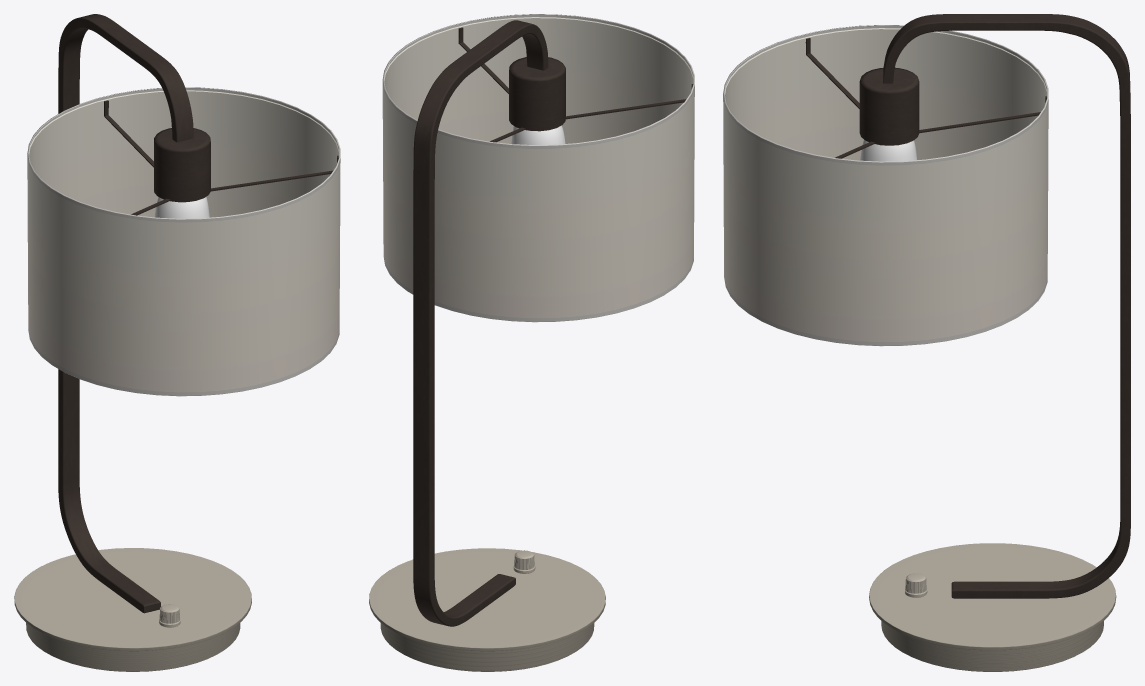
Rendered from lamp_B07B4YVXG8.glb.
3 views of the same model, side by side, from view 1: azimuth 30°, elevation 25°; view 2: azimuth 150°, elevation 25°; view 3: azimuth 270°, elevation 25° (orthographic). The views are drawn at different scales.
Visible parts, largest first — view 1: RootNode; view 2: RootNode; view 3: RootNode.
Part boxes in pixels (<box>): RootNode: <box>14,14,340,671</box>; RootNode: <box>369,14,694,671</box>; RootNode: <box>723,14,1130,671</box>.
Size of the model in its own units: 0.23 by 0.4734 by 0.2879.
1 material, 1 textured.
